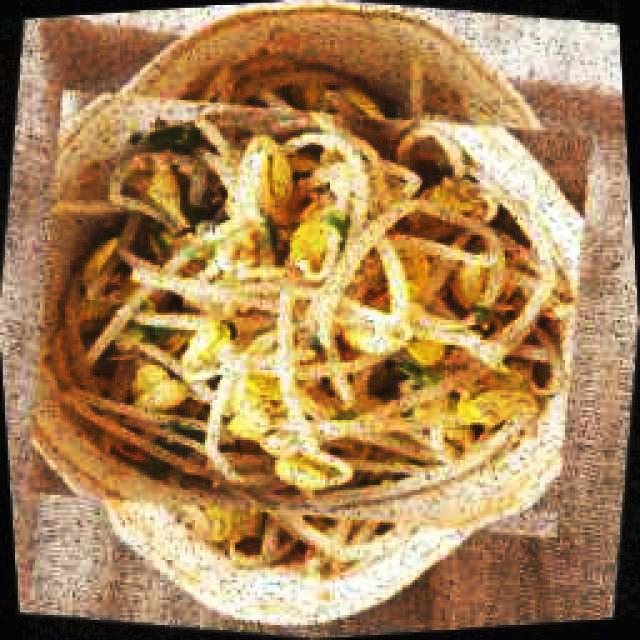mung_bean_sprouts: (81, 105, 562, 486)
